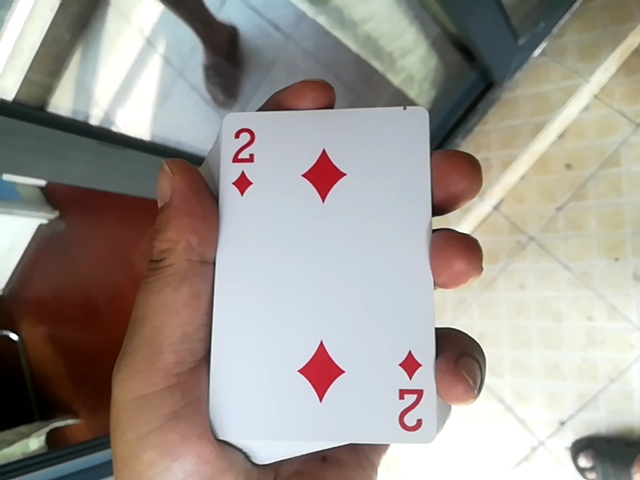fk 2: (198, 99, 435, 461)
